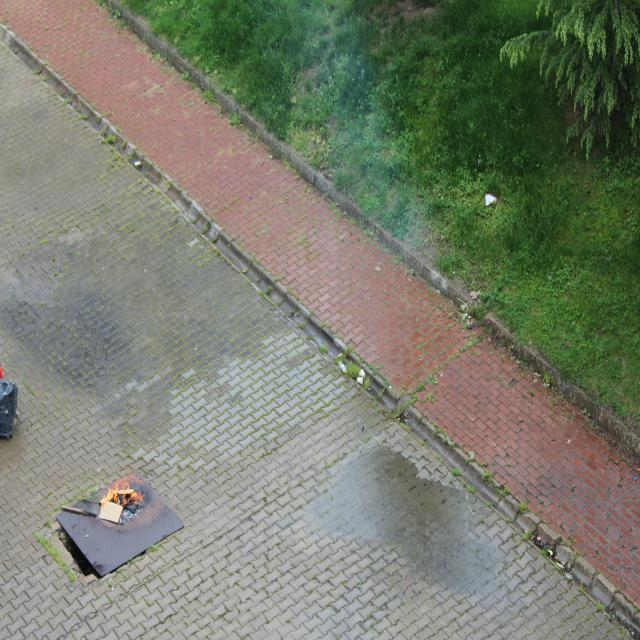fire: (97, 467, 146, 511)
